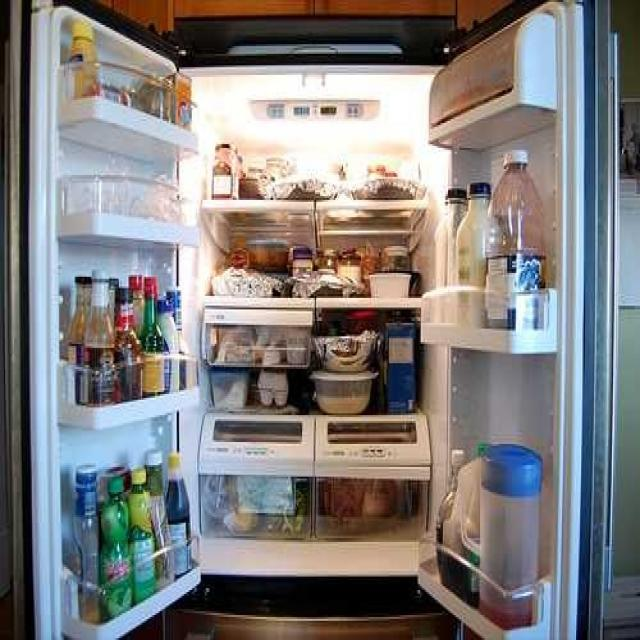refrigerator: (45, 6, 571, 640)
